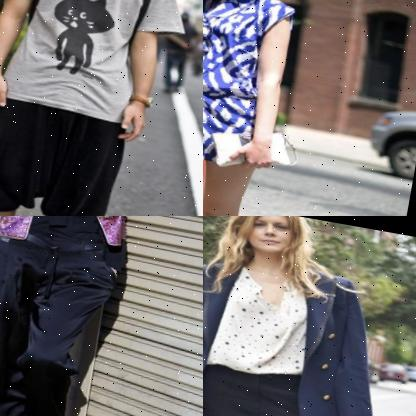dress: (203, 0, 298, 172)
jacket: (203, 246, 395, 416), (0, 216, 148, 271)
pants: (0, 218, 120, 416), (0, 93, 133, 216), (203, 353, 387, 416)
shirt: (0, 0, 199, 133)
